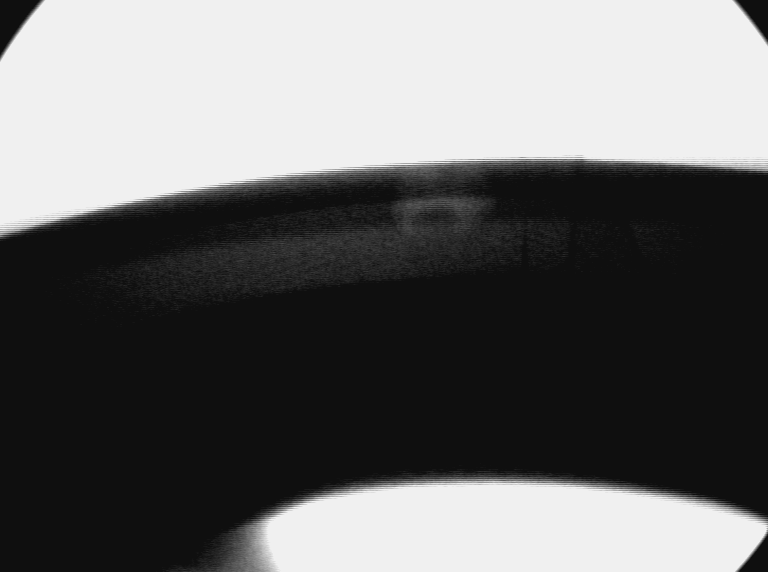defect: (394, 164, 494, 239)
